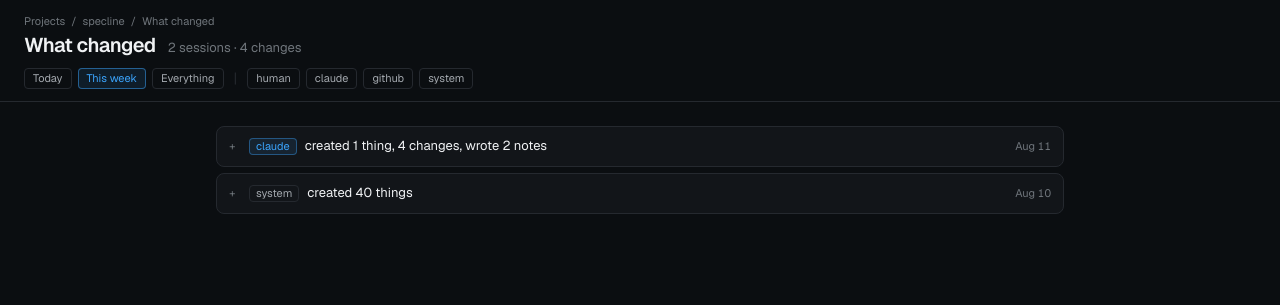
sessions › says when a session recorded no conversation, without pretending it is an error
The width and height of the screenshot is (1280, 305).
Click the text "created 40 things": (360, 193) [307, 184, 413, 201]
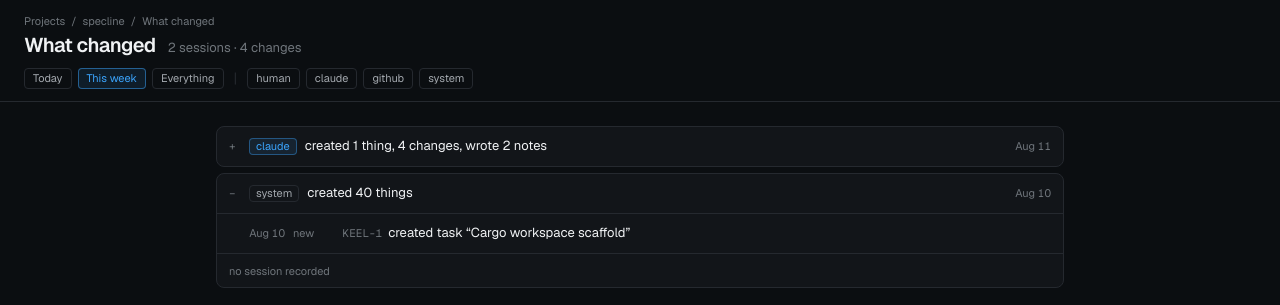
Expected: the text "no session recorded" is shown, [229, 264, 330, 279]
